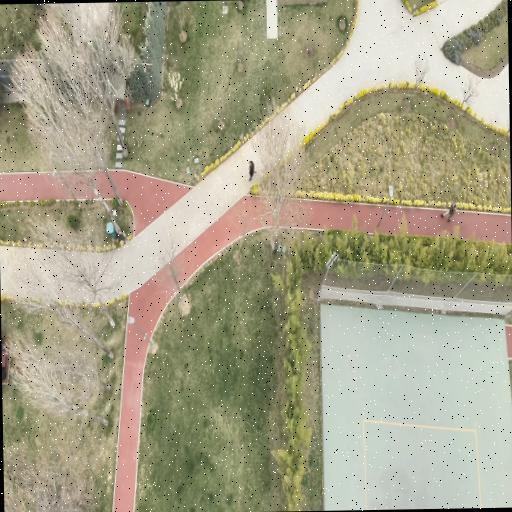person: (442, 203, 456, 222), (249, 161, 254, 181)
